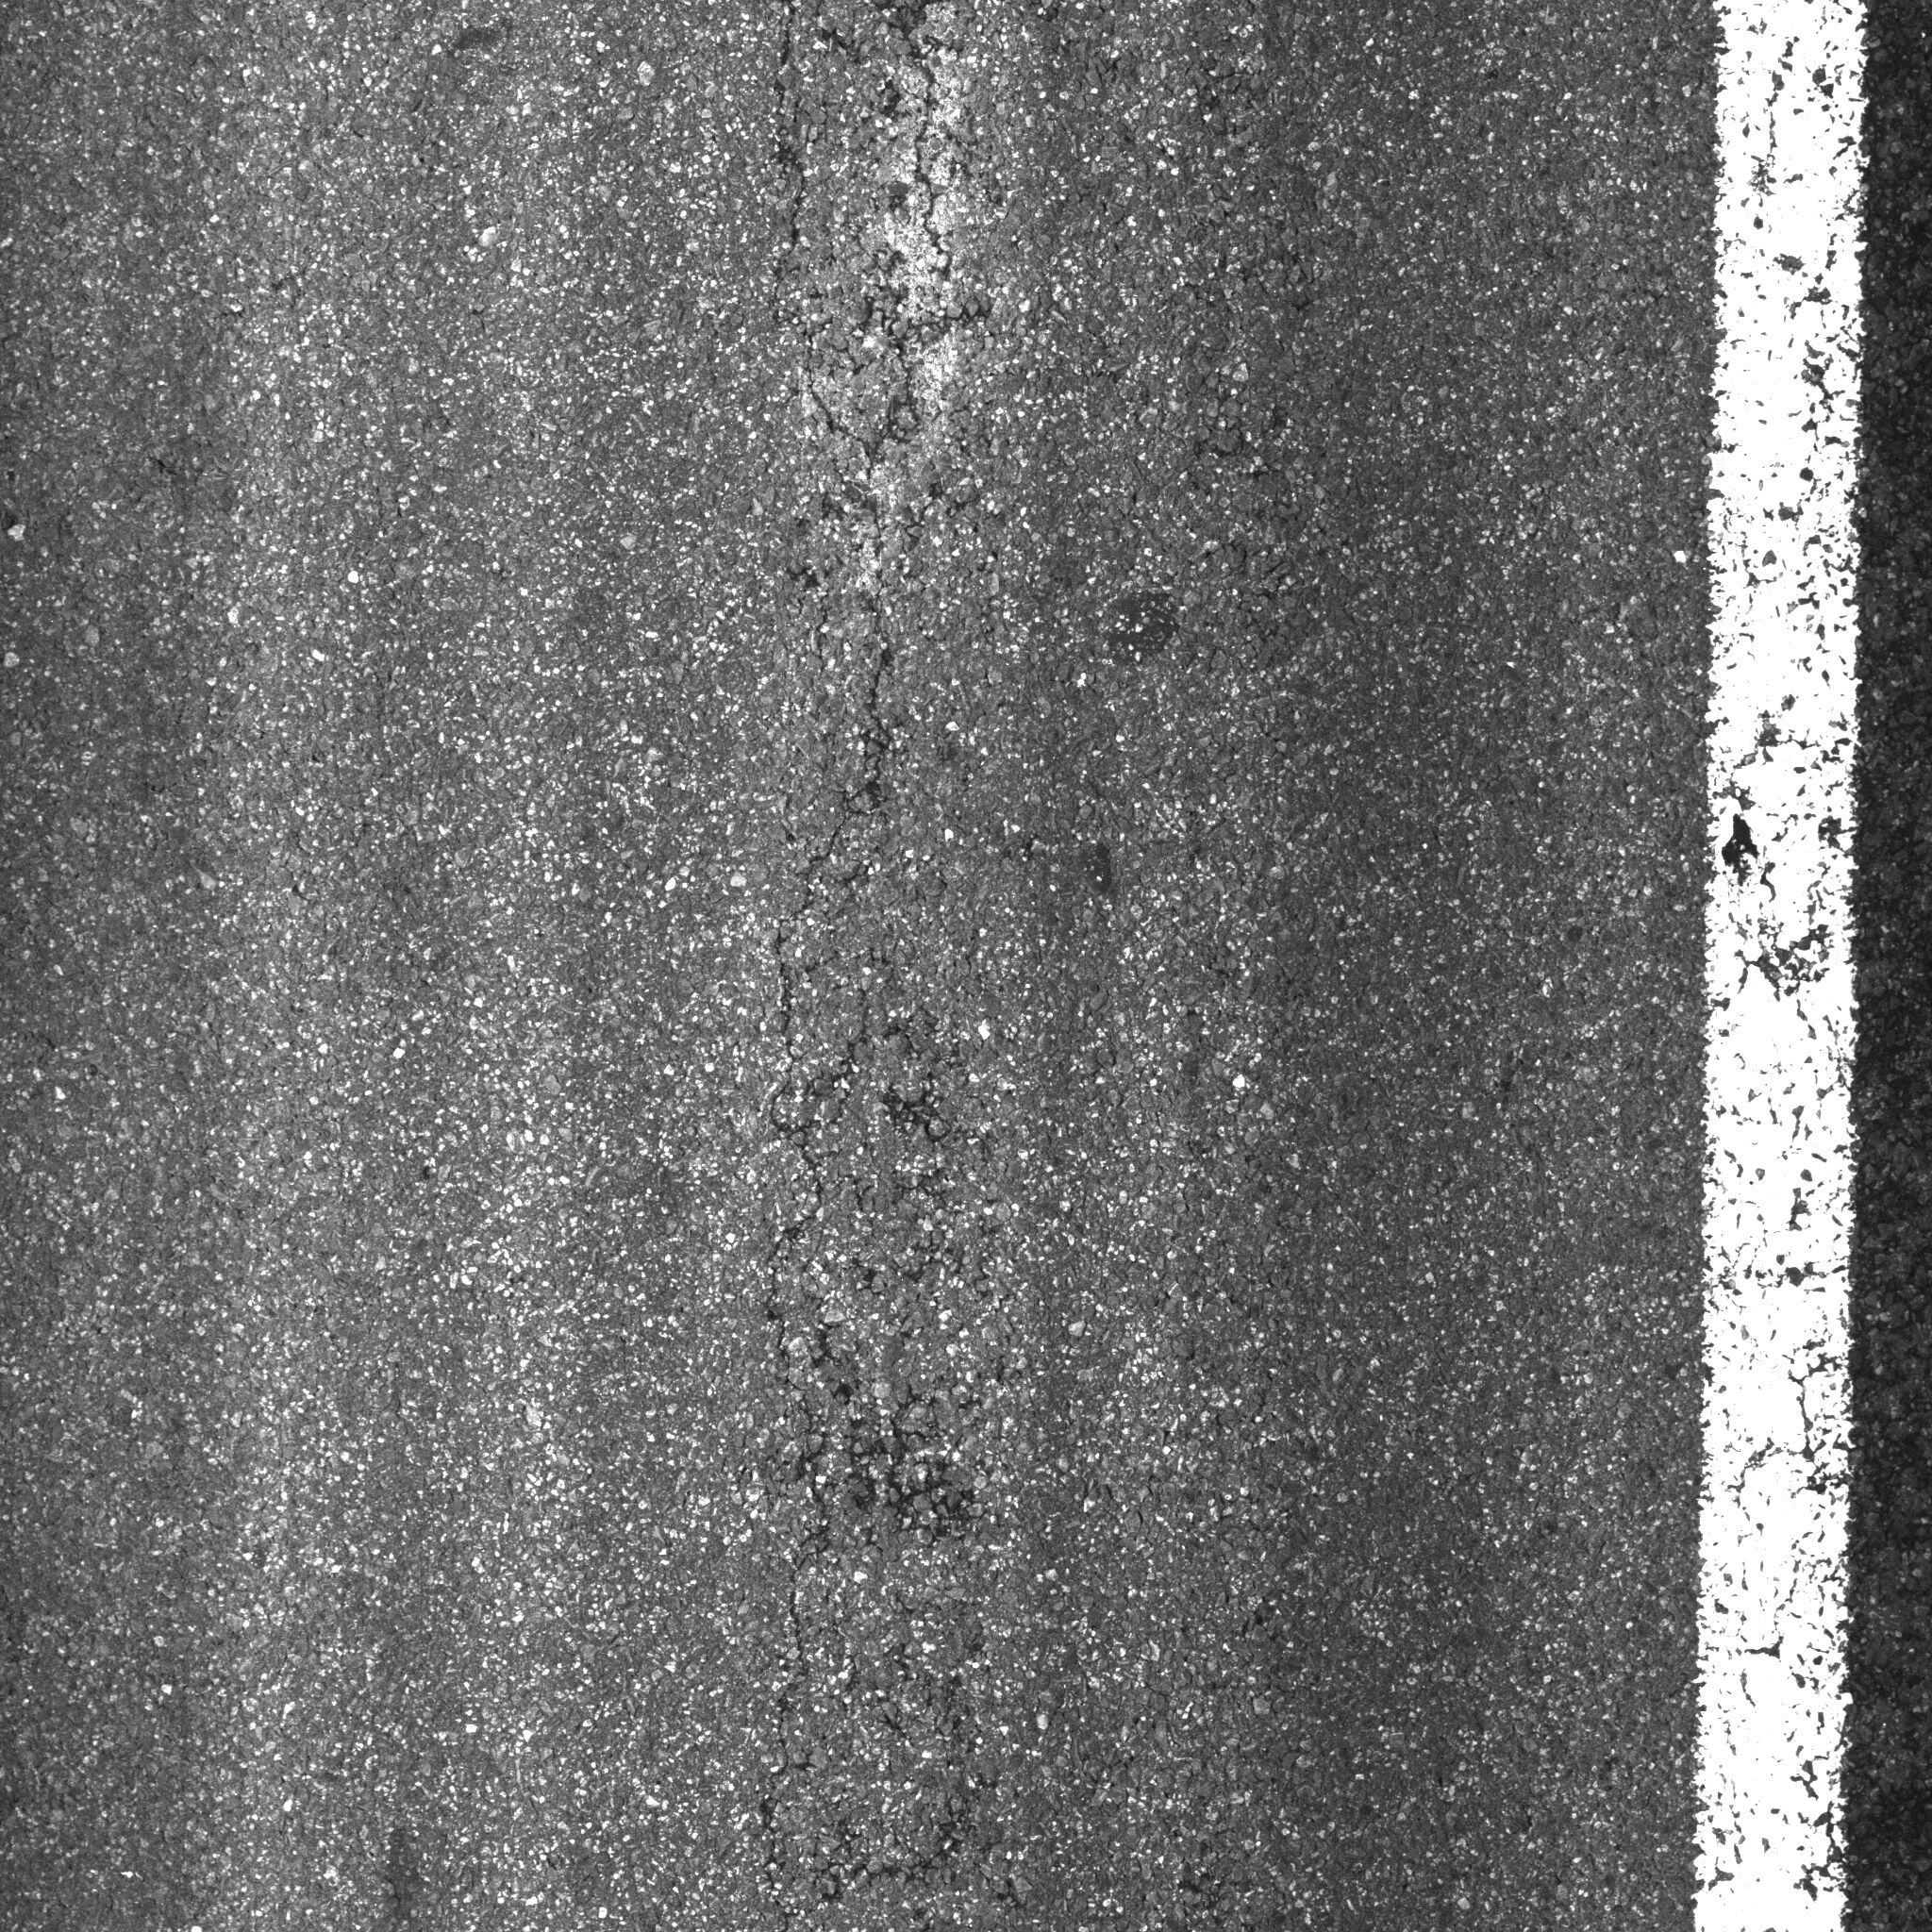longitudinal: (732, 14, 989, 1897)
